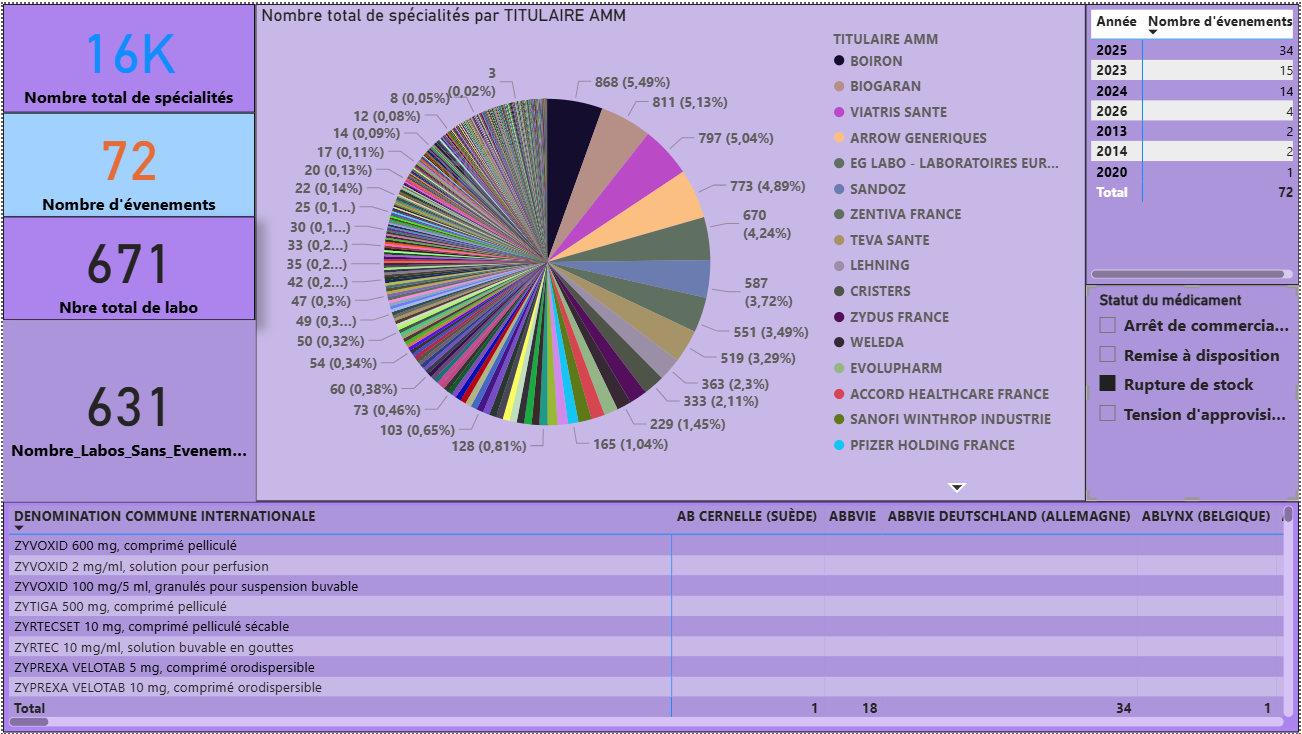

The dashboard page shown, as its layout file describes it:
{"tool":"powerbi","page":{"name":"Les années les plus troubles","canvas":[1280,720],"ordinal":3},"visuals":[{"type":"slicer","fields":{"Values":["FACT_Dispo_Spec.Statut du médicament"]},"box":[0,311.6,249,181],"z":0},{"type":"pieChart","fields":{"Category":["DIM INFOS MEDICAMENTS.TITULAIRE AMM"],"Y":["DIM INFOS MEDICAMENTS.Nombre total de spécialités"]},"box":[249,0,820.4,491.2],"z":1000},{"type":"card","fields":{"Values":["DIM INFOS MEDICAMENTS.Nombre total de spécialités"]},"box":[0,0,249,107],"z":2000},{"type":"card","fields":{"Values":["FACT_Dispo_Spec.nombre d'évenements"]},"box":[0,107,249,103],"z":3000},{"type":"card","fields":{"Values":["Sum(FACT_Dispo_Spec.DUREE EVENEMENT)"]},"box":[0,209.5,249,102],"z":4000},{"type":"pivotTable","fields":{"Rows":["DIM INFOS MEDICAMENTS.DCI"],"Columns":["DIM INFOS MEDICAMENTS.TITULAIRE AMM"],"Values":["DIM INFOS MEDICAMENTS.Nombre total de spécialités"]},"box":[0,491.4,1280.2,228.4],"z":5000},{"type":"pivotTable","fields":{"Values":["FACT_Dispo_Spec.Nombre d'évenements"],"Rows":["DIM_Date.Année"]},"box":[1069.1,0,211.1,201.2],"z":6000},{"type":"card","fields":{"Values":["DIM_Date.Max durée"]},"box":[1069.1,201.2,211.1,121],"z":6001},{"type":"card","fields":{"Values":["DIM_Date.Min durée"]},"box":[1069.1,338.3,211.1,153.1],"z":6002}]}

Visuals, with their boxes in screenshot pixels (x1, y1, x2, y2), scaled from the page's 1280x720 canvas onto the 1302x734 screenshot:
slicer - FACT_Dispo_Spec.Statut du médicament: 0:318:253:502
pieChart - DIM INFOS MEDICAMENTS.TITULAIRE AMM x DIM INFOS MEDICAMENTS.Nombre total de spécialités: 253:0:1088:501
card - DIM INFOS MEDICAMENTS.Nombre total de spécialités: 0:0:253:109
card - FACT_Dispo_Spec.nombre d'évenements: 0:109:253:214
card - Sum(FACT_Dispo_Spec.DUREE EVENEMENT): 0:214:253:318
pivotTable - DIM INFOS MEDICAMENTS.DCI x DIM INFOS MEDICAMENTS.TITULAIRE AMM: 0:501:1301:733
pivotTable - FACT_Dispo_Spec.Nombre d'évenements x DIM_Date.Année: 1087:0:1301:205
card - DIM_Date.Max durée: 1087:205:1301:328
card - DIM_Date.Min durée: 1087:345:1301:501
